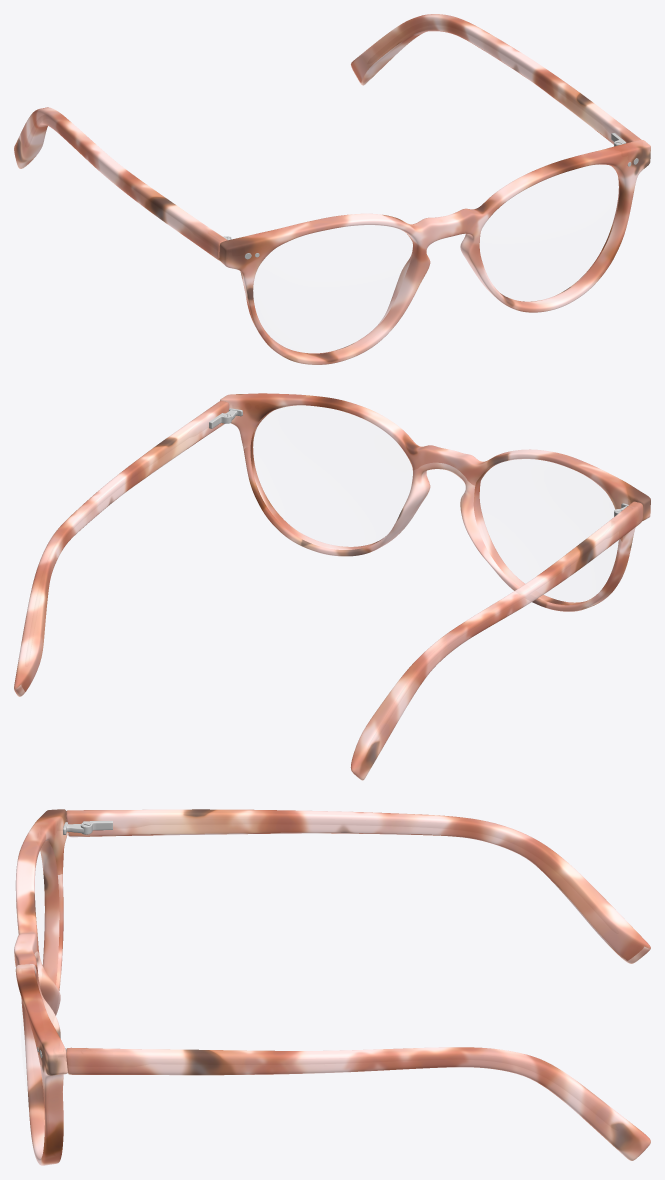
File: blakeley-opt-sbf-smoky-mauve-tortoise_medium.glb
3 views of the same model, one above another, from view 1: azimuth 30°, elevation 25°; view 2: azimuth 150°, elevation 25°; view 3: azimuth 270°, elevation 25° (orthographic). The views are drawn at different scales.
Visible parts, largest first — view 1: face_front, left_temple, right_temple; view 2: face_front, right_temple, left_temple; view 3: right_temple, left_temple, face_front.
Boxes of the visible parts, <box> form: face_front: <box>219,140,650,364</box>; left_temple: <box>351,14,641,144</box>; right_temple: <box>14,107,227,260</box>; face_front: <box>220,393,650,611</box>; right_temple: <box>350,501,643,780</box>; left_temple: <box>14,401,229,696</box>; right_temple: <box>66,809,650,963</box>; left_temple: <box>66,1047,650,1160</box>; face_front: <box>14,809,67,1165</box>.
Bounding box in the file's own units: 0.1359 × 0.0443 × 0.1476.
6 materials, 2 textured.
